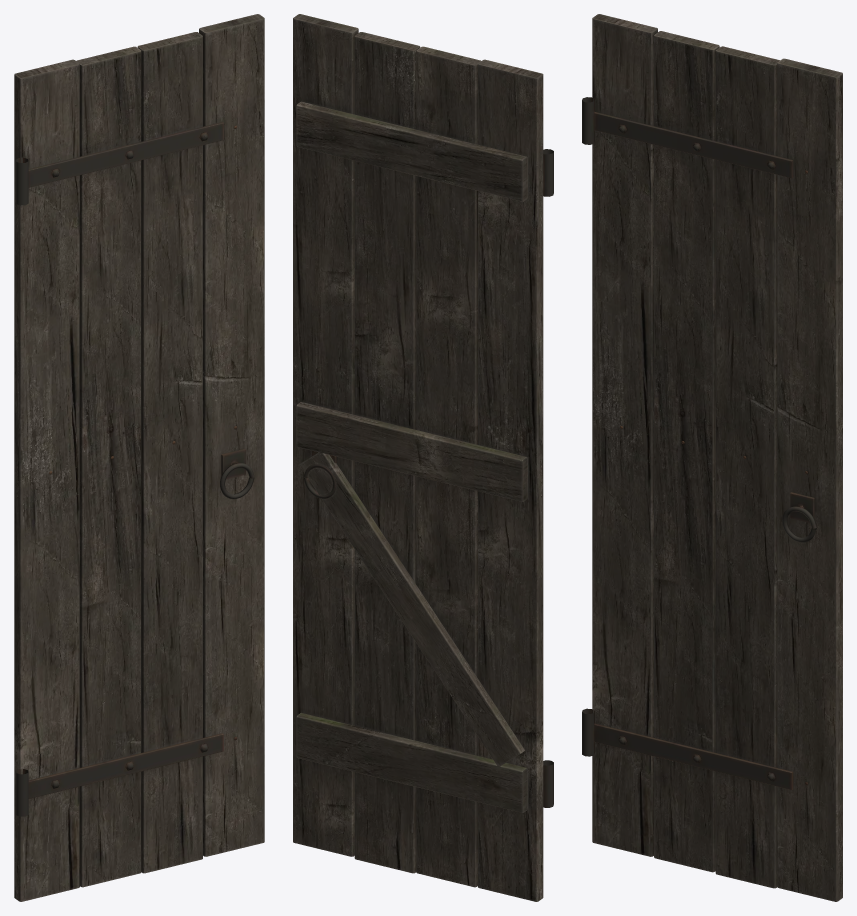
File: door_chapel.glb
The picture shows the model from 3 angles, left to right: view 1: azimuth 30°, elevation 25°; view 2: azimuth 150°, elevation 25°; view 3: azimuth 330°, elevation 25°; orthographic projection.
Visible parts, largest first — view 1: door_chapel; view 2: door_chapel; view 3: door_chapel.
Boxes of the visible parts, x1,y1,x2,y2 form: door_chapel: (14, 14, 264, 901); door_chapel: (293, 14, 553, 901); door_chapel: (582, 14, 842, 901).
Bounding box in the file's own units: 0.745 × 2.34 × 0.093.
Materials: 1 (1 with a texture image).
